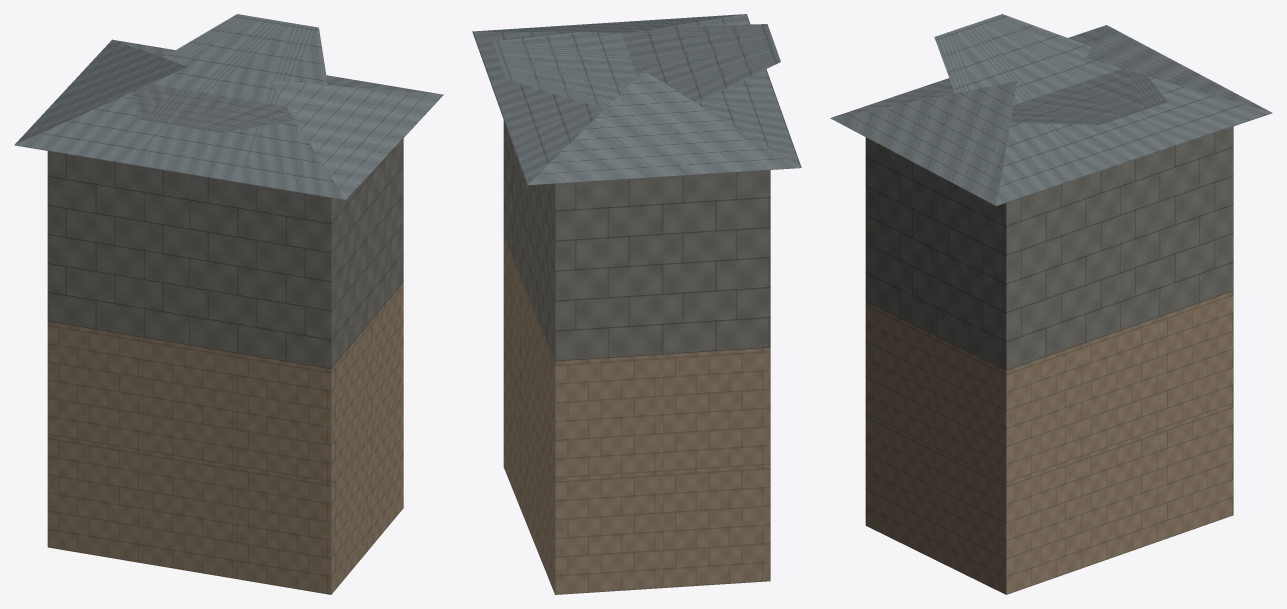
File: bld_c18_21_476.gltf
3 views of the same model, side by side, from view 1: azimuth 30°, elevation 25°; view 2: azimuth 150°, elevation 25°; view 3: azimuth 270°, elevation 25° (orthographic). The views are drawn at different scales.
Parts seen in each view (by area): view 1: bld_c18_21_476; view 2: bld_c18_21_476; view 3: bld_c18_21_476.
Boxes of the visible parts, x1=… form: bld_c18_21_476: x1=14, y1=14, x2=443, y2=594; bld_c18_21_476: x1=472, y1=14, x2=801, y2=594; bld_c18_21_476: x1=830, y1=14, x2=1272, y2=594.
Size of the model in its own units: 8.44 by 9.8 by 8.71.
3 materials, 3 textured.
